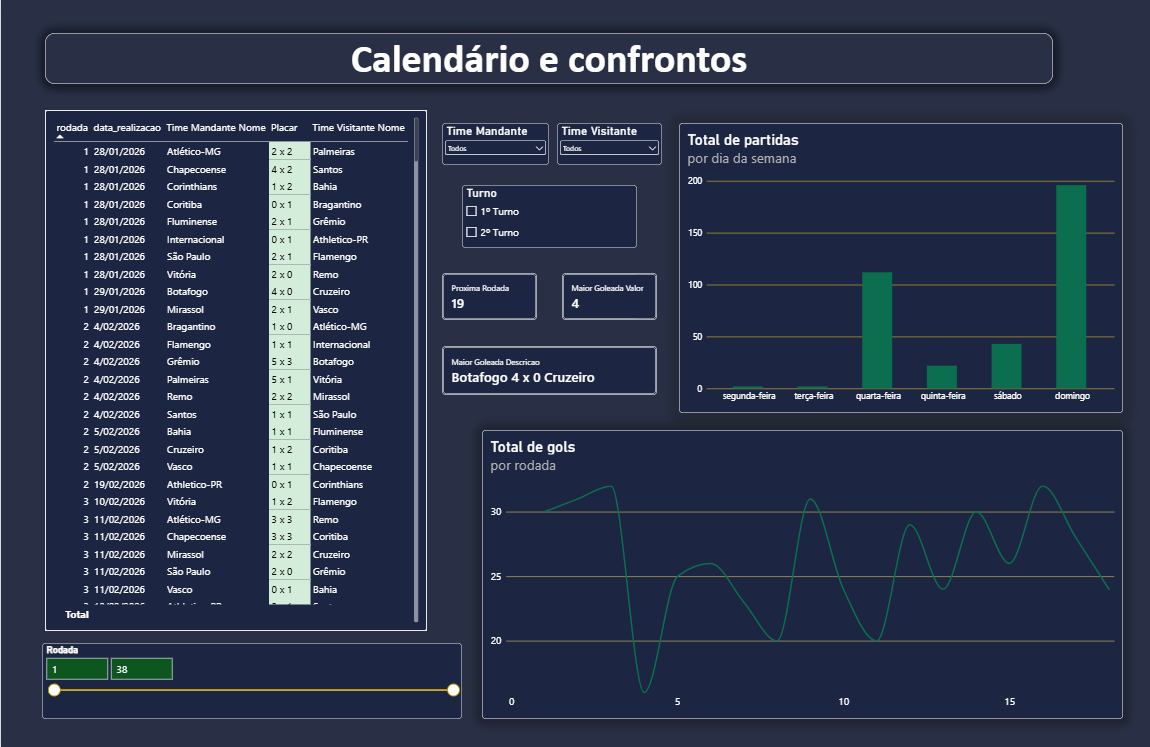

The page's visual inventory and layout, read from the dashboard file:
{"tool":"powerbi","page":{"name":"Calendário e confrontos","canvas":[1920,1080],"ordinal":2},"visuals":[{"type":"tableEx","fields":{"Values":["partidas.rodada","partidas.data_realizacao","partidas.Time Mandante Nome","partidas.Placar","partidas.Time Visitante Nome"]},"box":[592.3,135.7,624.4,885.6],"z":0},{"type":"slicer","fields":{"Values":["partidas.rodada"]},"box":[0,135.7,561.7,89],"z":1000}]}

Visuals, with their boxes on the page's 1920x1080 design canvas (x1, y1, x2, y2). These are canvas units, not pixel positions in the 1150x747 screenshot, which may show the page scaled, cropped or inside an application window:
tableEx - partidas.rodada x partidas.data_realizacao: (592,136,1217,1021)
slicer - partidas.rodada: (0,136,562,225)
